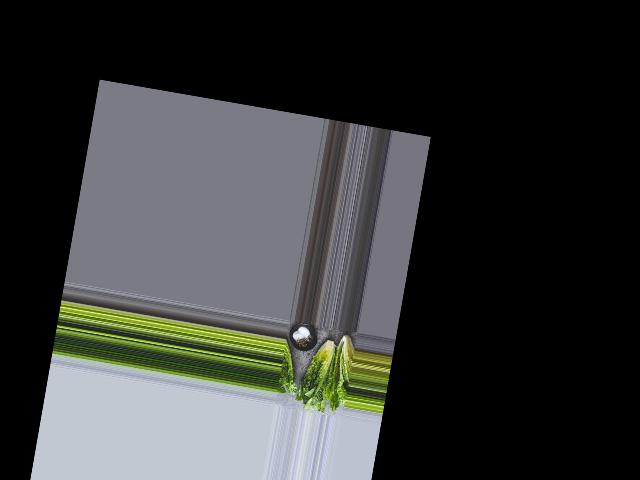lettuce: (324, 328, 357, 407)
